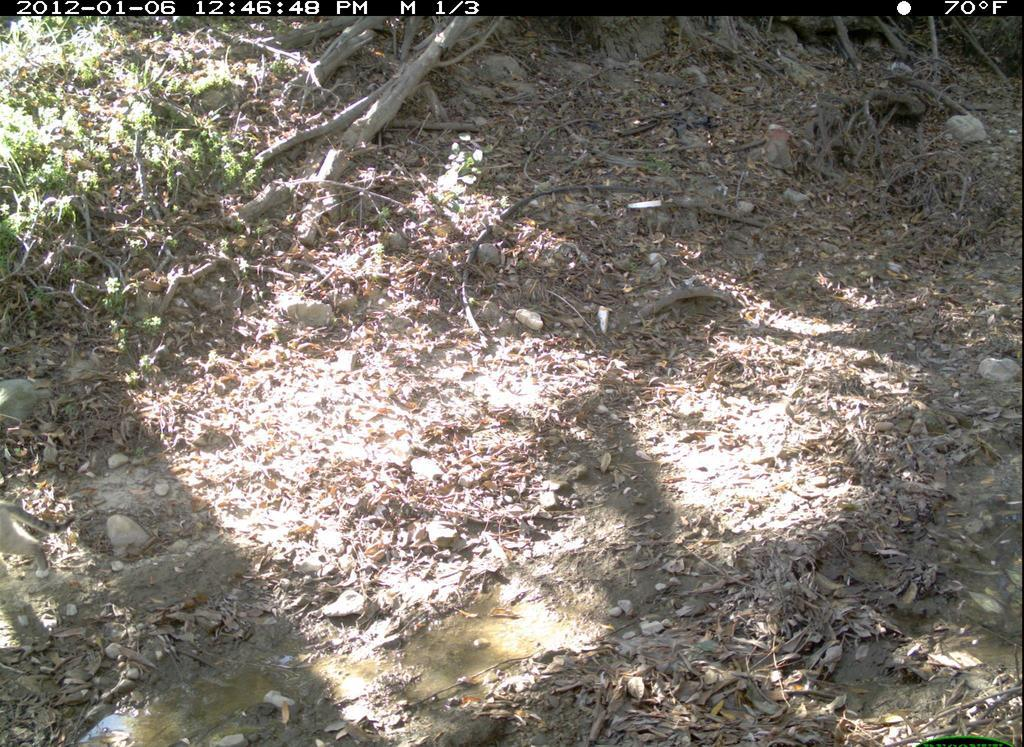cat: (1, 481, 71, 617)
